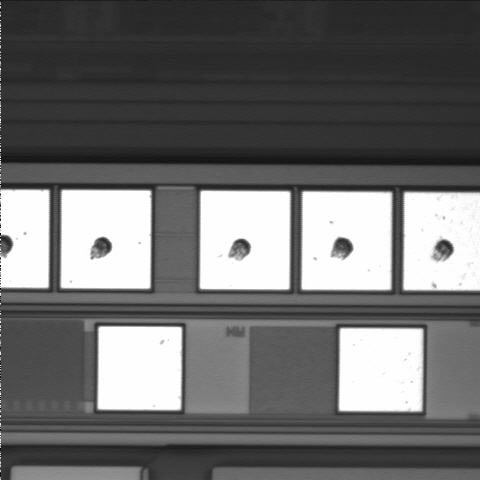pad: (61, 190, 151, 289), (200, 191, 290, 289), (302, 192, 392, 290), (98, 327, 182, 410), (339, 328, 423, 411)
